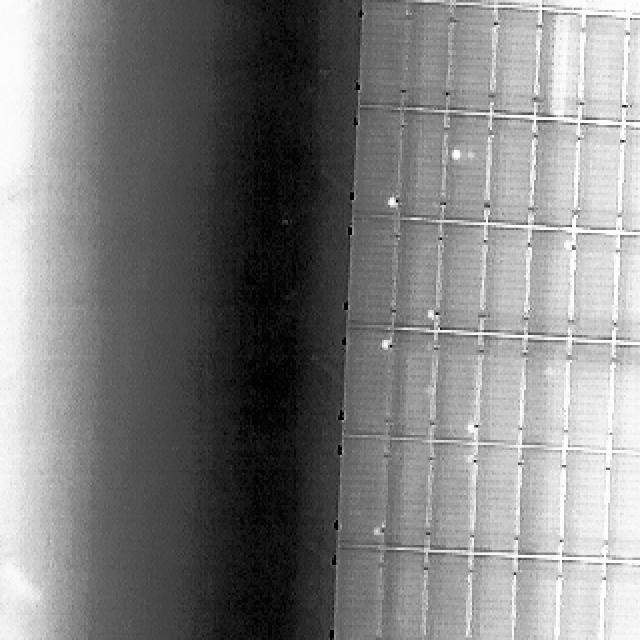Hotspots: (448, 142, 468, 164), (367, 521, 384, 545), (378, 333, 394, 355), (383, 193, 396, 216), (466, 418, 477, 439)
PV-modules: (397, 115, 448, 226), (532, 123, 582, 234), (429, 332, 478, 442), (337, 439, 385, 550), (386, 439, 433, 552), (435, 224, 483, 332), (477, 338, 524, 448), (574, 126, 621, 236), (559, 452, 606, 562), (523, 342, 571, 449), (348, 220, 395, 329), (387, 334, 434, 443), (481, 227, 528, 335), (472, 444, 518, 554), (396, 220, 442, 330), (446, 7, 492, 116), (528, 232, 574, 341), (353, 107, 398, 218), (520, 447, 566, 555), (428, 442, 473, 552), (404, 5, 451, 110), (488, 121, 534, 228), (566, 345, 612, 452), (357, 1, 403, 108), (582, 17, 628, 124), (490, 9, 535, 118), (569, 232, 613, 341), (444, 117, 487, 228), (540, 12, 584, 120), (342, 334, 387, 439), (334, 550, 384, 640), (600, 450, 640, 562), (380, 552, 426, 640), (422, 556, 468, 640), (467, 559, 512, 640), (517, 561, 563, 640), (556, 564, 602, 640), (608, 347, 640, 455), (610, 238, 640, 348), (600, 565, 640, 640), (616, 127, 640, 235), (622, 17, 640, 125), (584, 0, 632, 15), (540, 0, 584, 12), (498, 0, 544, 8), (626, 0, 640, 20), (450, 0, 498, 2)
